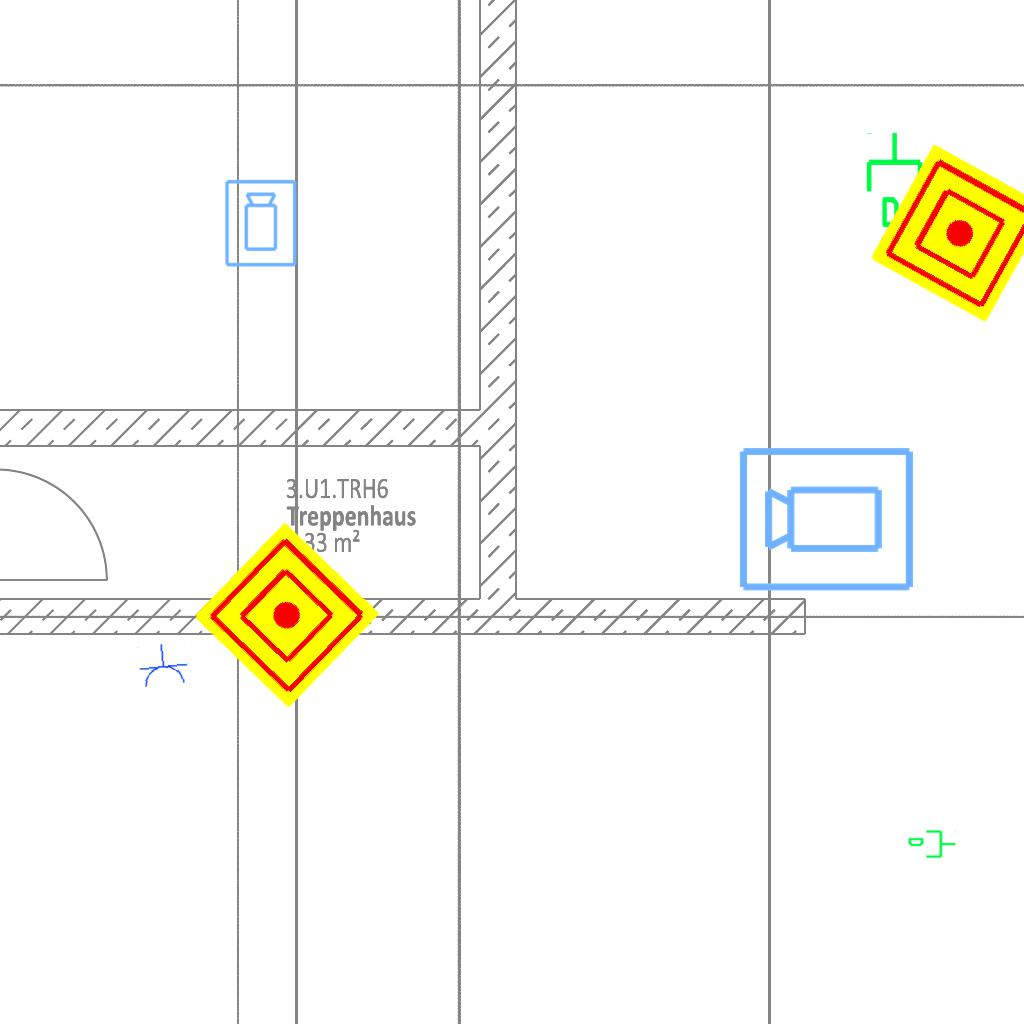Datenanschluss_einfach: (862, 130, 931, 230), (907, 828, 957, 862)
KFO_Kamera_mit_Festobjektiv: (736, 441, 918, 595), (223, 178, 300, 269)
NAM-Nichtautomatischer_Melder: (193, 521, 381, 709), (870, 143, 1024, 323)
Schukosteckdose_einfach: (135, 641, 191, 690)
